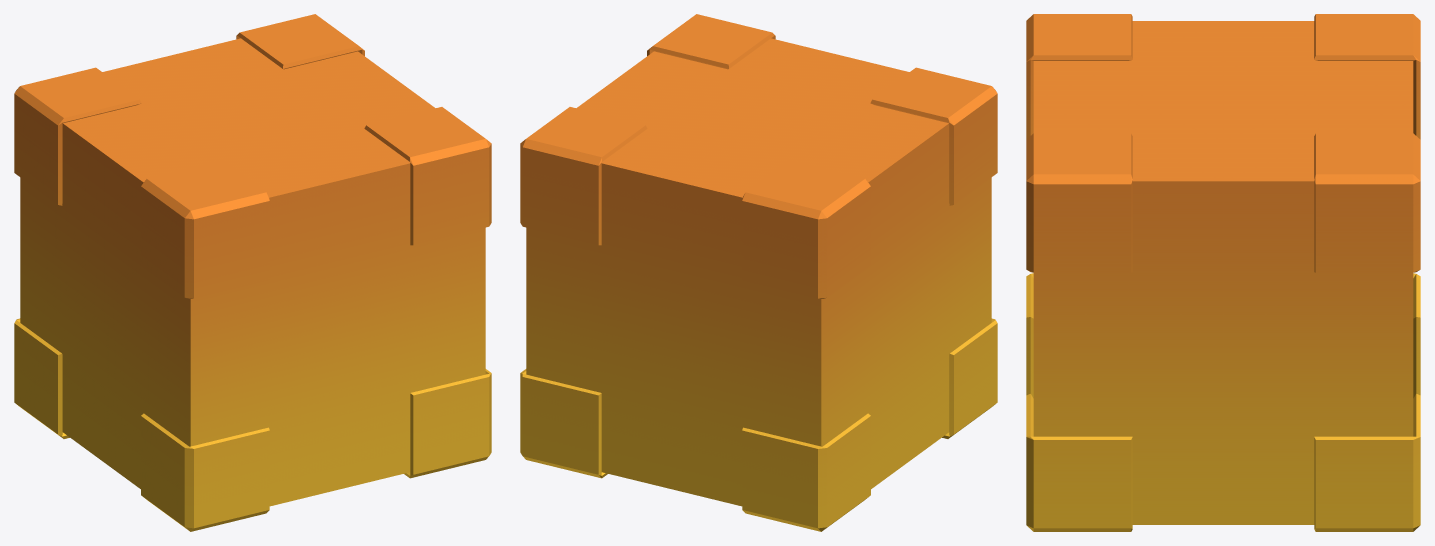
File: Block.fbx
The picture shows the model from 3 angles, left to right: view 1: azimuth 30°, elevation 25°; view 2: azimuth 150°, elevation 25°; view 3: azimuth 270°, elevation 25°; orthographic projection. The views are drawn at different scales.
Visible parts, largest first — view 1: Block; view 2: Block; view 3: Block.
Boxes of the visible parts, x1,y1,x2,y2 form: Block: [14, 14, 491, 531]; Block: [520, 14, 997, 531]; Block: [1026, 14, 1420, 531].
Bounding box in the file's own units: 208 × 208 × 208.
